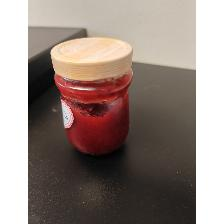Marmelade: (49, 36, 135, 159)
